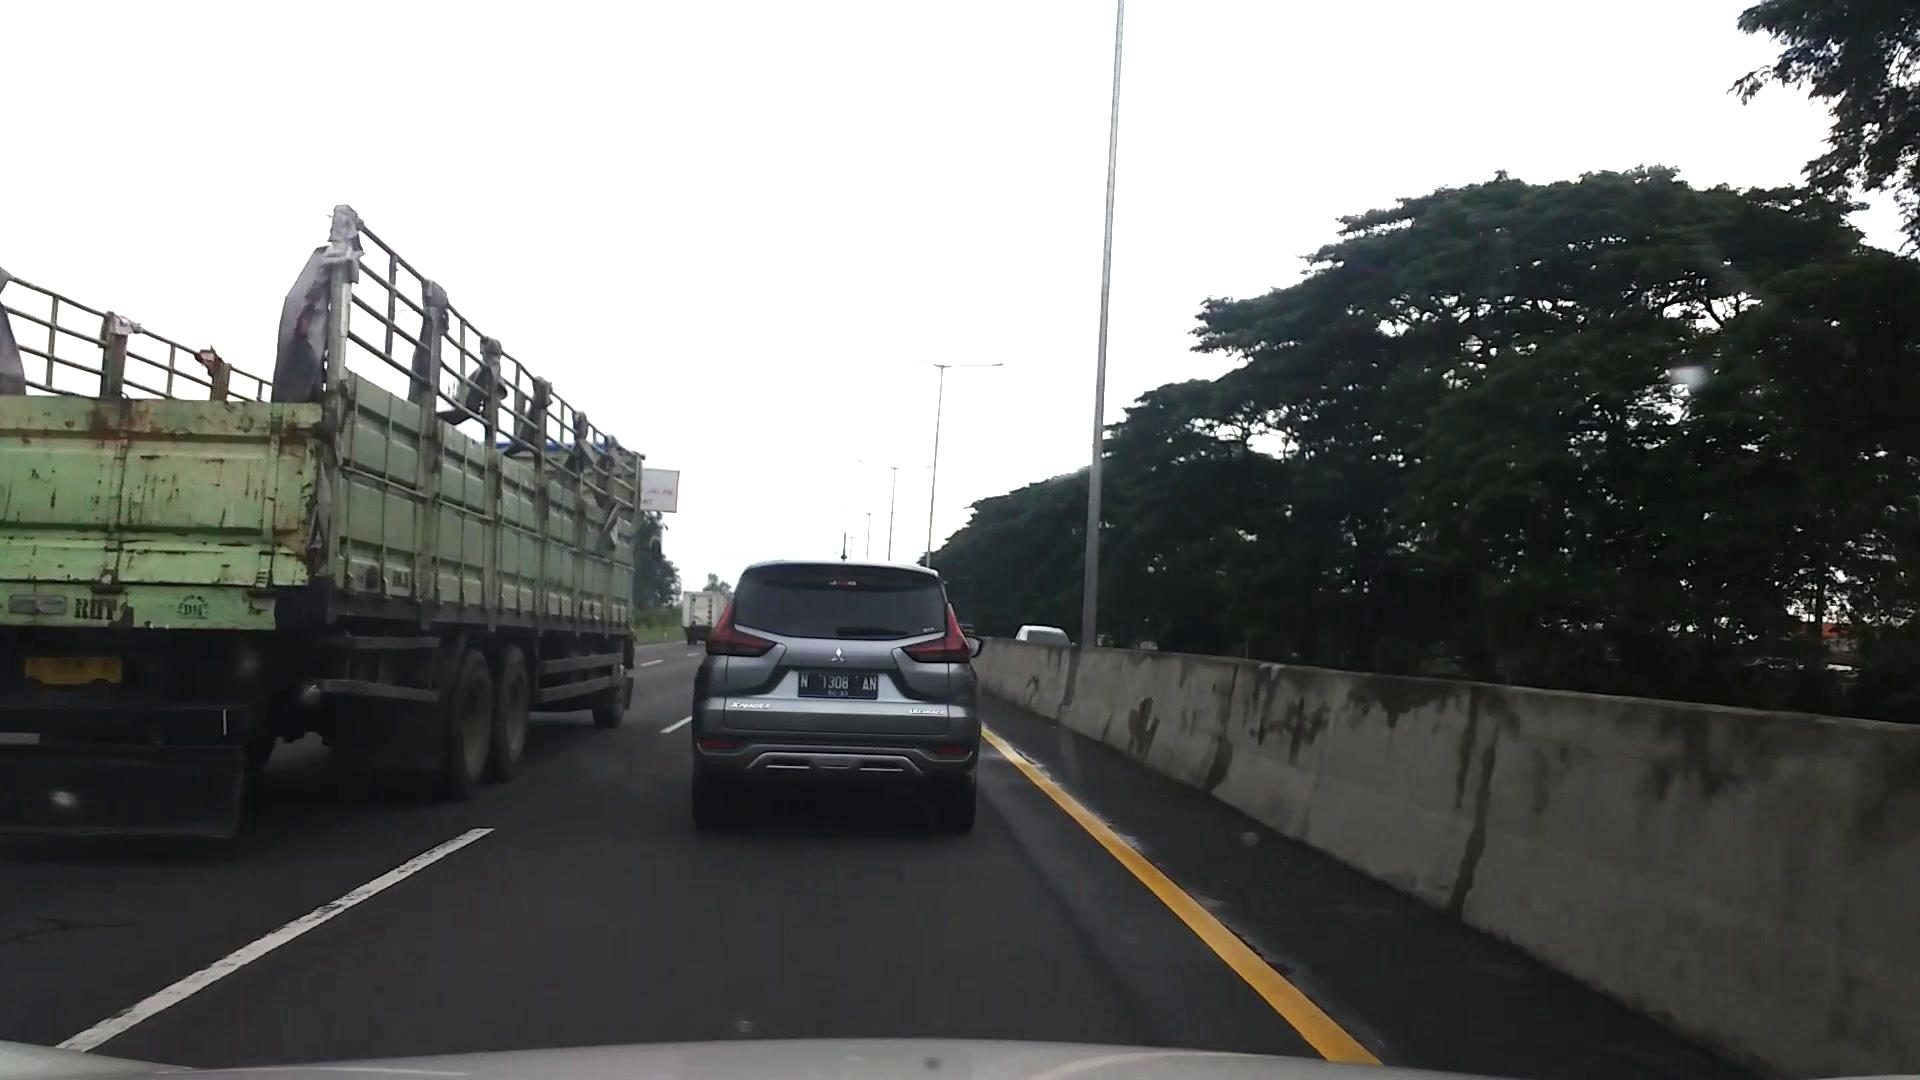plate_positive: (798, 670, 878, 699)
